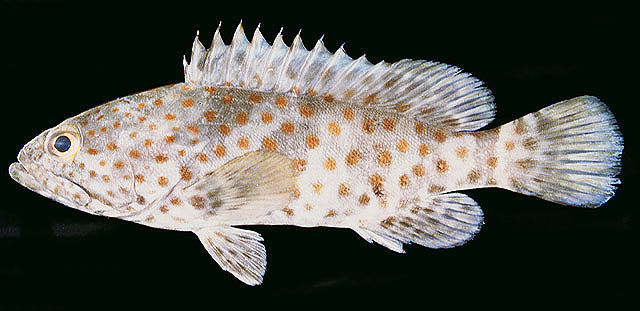fish: (9, 19, 625, 287)
